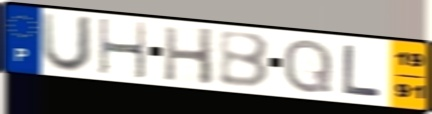B: (216, 31, 273, 91)
H: (161, 25, 216, 88), (96, 17, 149, 82)
L: (341, 42, 385, 98)
Q: (281, 36, 335, 95)
U: (39, 10, 96, 75)
